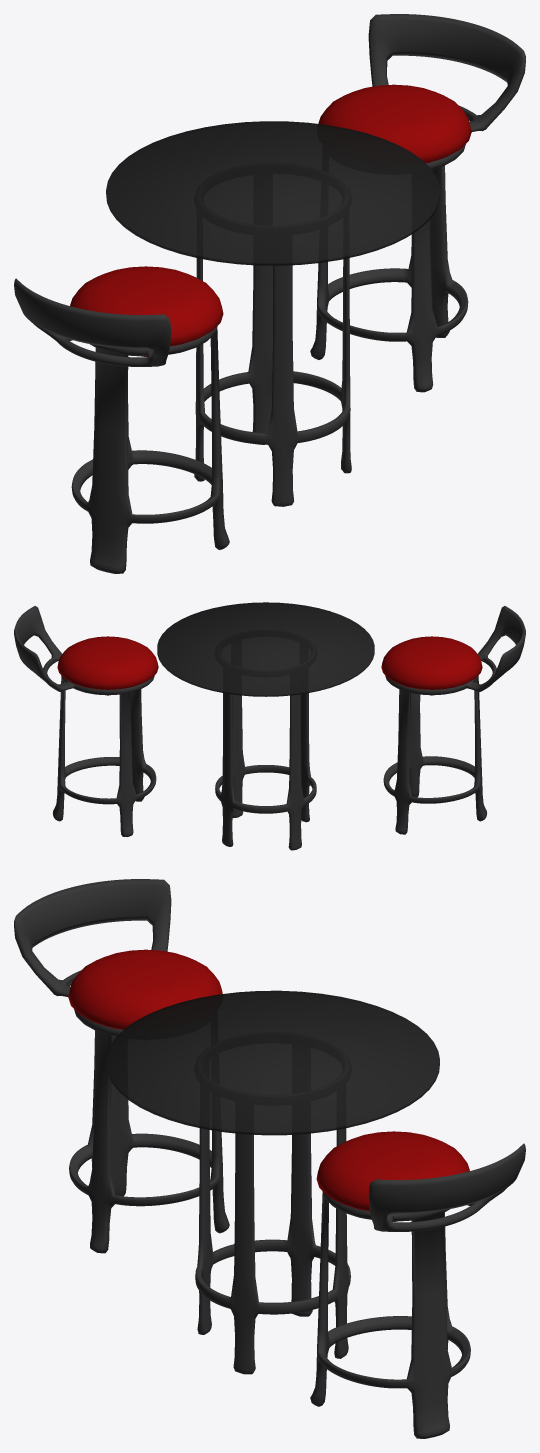
File: UDTarget1.fbx
The picture shows the model from 3 angles, top to bottom: view 1: azimuth 30°, elevation 25°; view 2: azimuth 150°, elevation 25°; view 3: azimuth 270°, elevation 25°; orthographic projection. The views are drawn at different scales.
Visible parts, largest first — view 1: Default; view 2: Default; view 3: Default.
Part boxes in pixels (x1,y1,x2,y2): Default: (14,14,525,573); Default: (14,602,525,850); Default: (14,879,525,1438).
Size of the model in its own units: 8.12 by 3.91 by 5.81.
